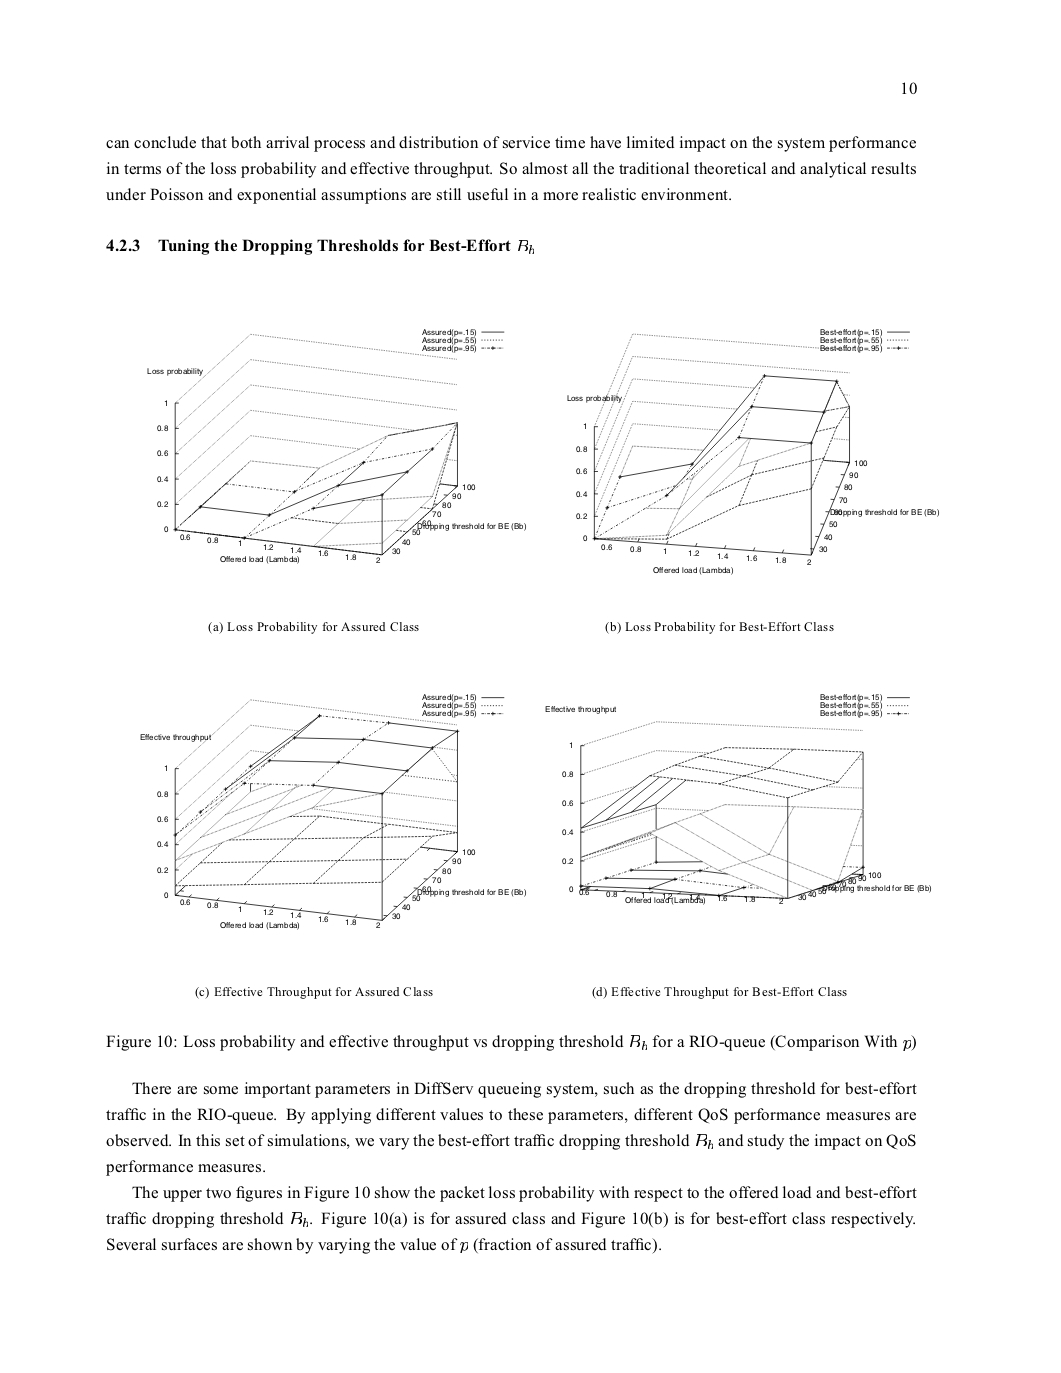figure: (567, 328, 938, 575), (140, 692, 525, 929), (147, 328, 525, 564), (545, 692, 929, 905)
